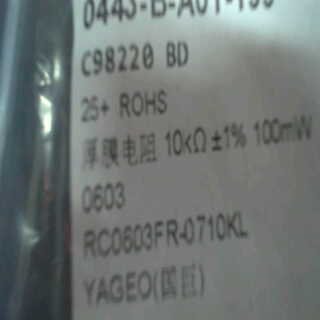10kR: (159, 123, 210, 160)
